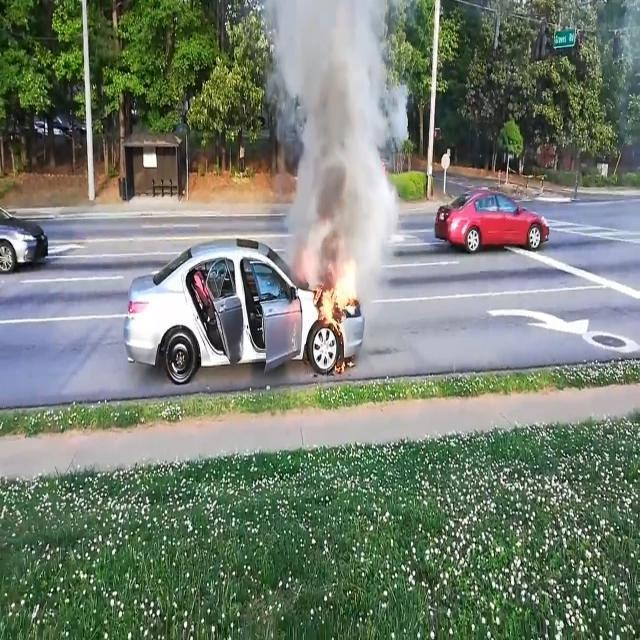fire: (294, 216, 364, 376)
